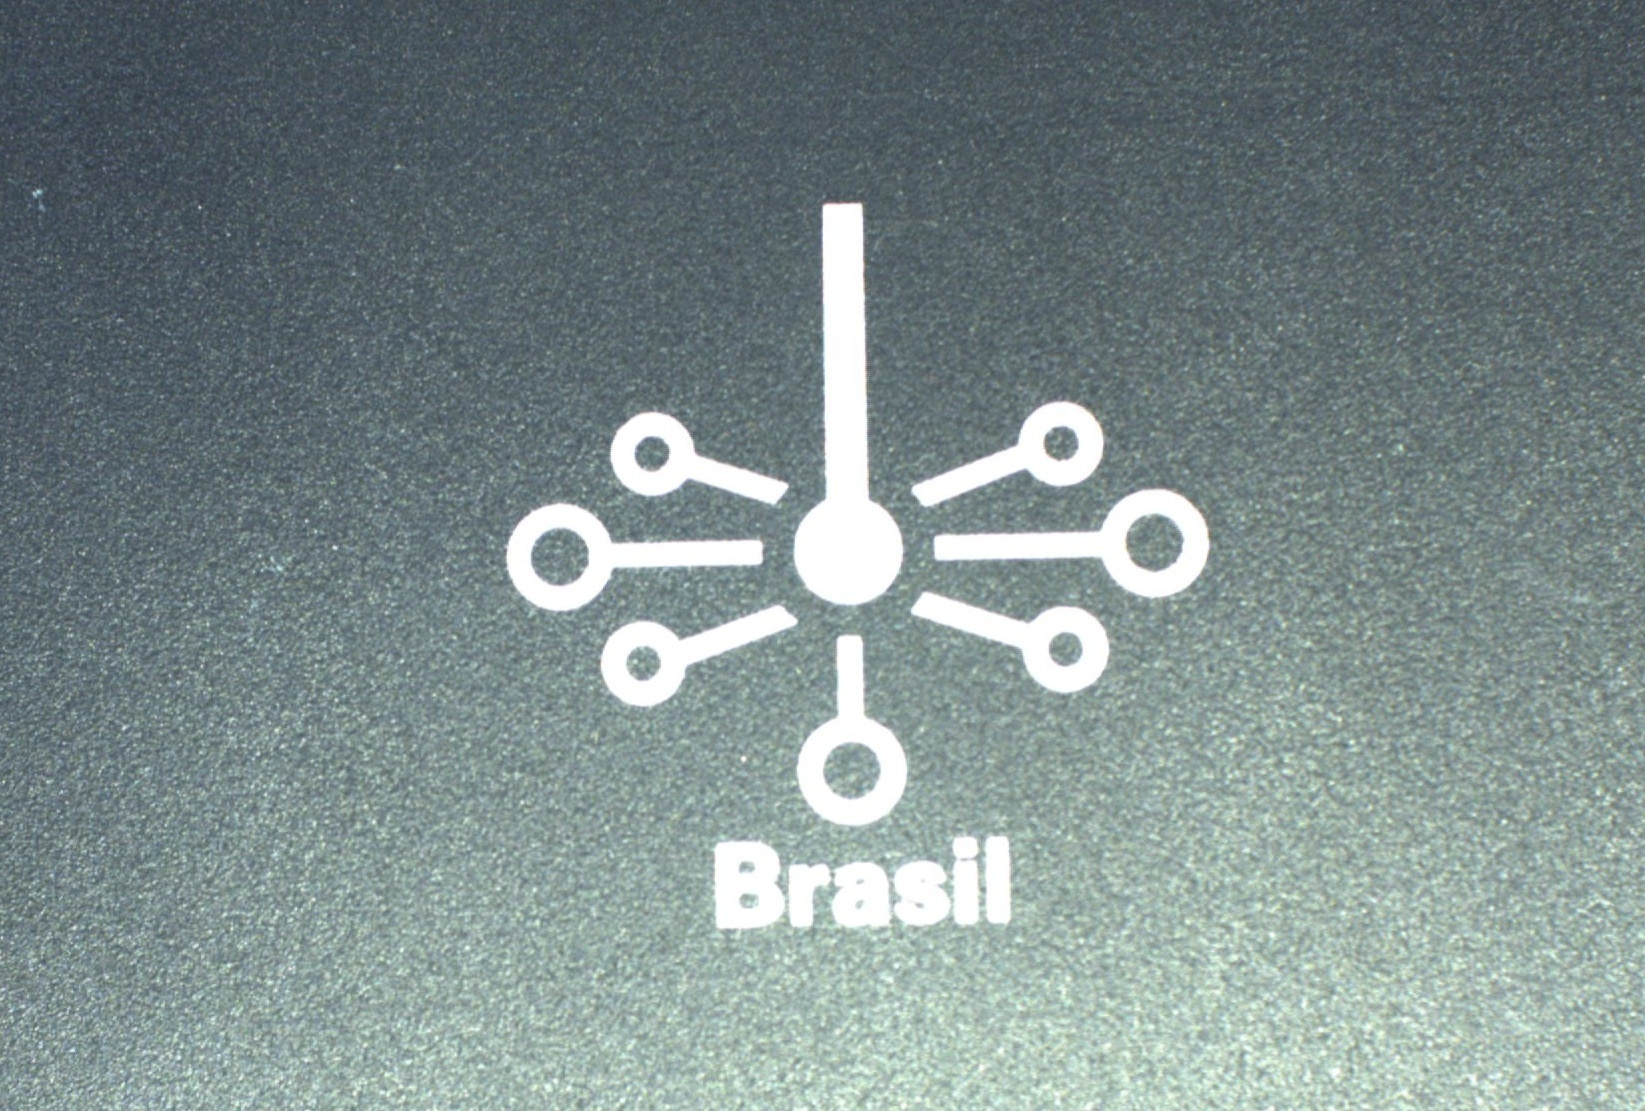BO_Brsail: (477, 197, 1220, 951)
